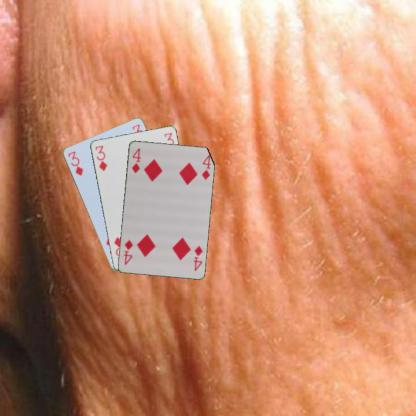3d: (65, 148, 84, 177), (92, 143, 108, 172)
4d: (191, 242, 204, 272), (129, 145, 142, 174)
